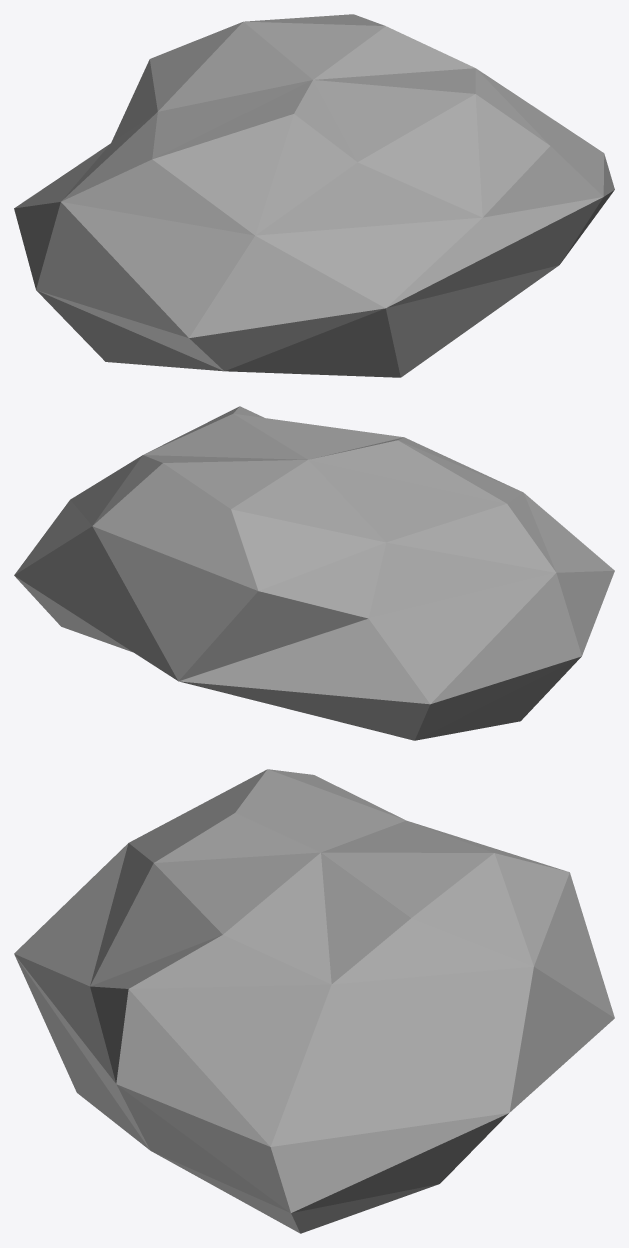
Rendered from Stone02.fbx.
3 renders of one model, top to bottom at view 1: azimuth 30°, elevation 25°; view 2: azimuth 150°, elevation 25°; view 3: azimuth 270°, elevation 25°, orthographic. The views are drawn at different scales.
Visible parts, largest first — view 1: Stone02; view 2: Stone02; view 3: Stone02.
Boxes of the visible parts, box(x1,y1,x2,y2) form: Stone02: box(14, 14, 614, 377); Stone02: box(14, 406, 614, 740); Stone02: box(14, 769, 614, 1233).
Size of the model in its own units: 41.19 by 16 by 32.52.
